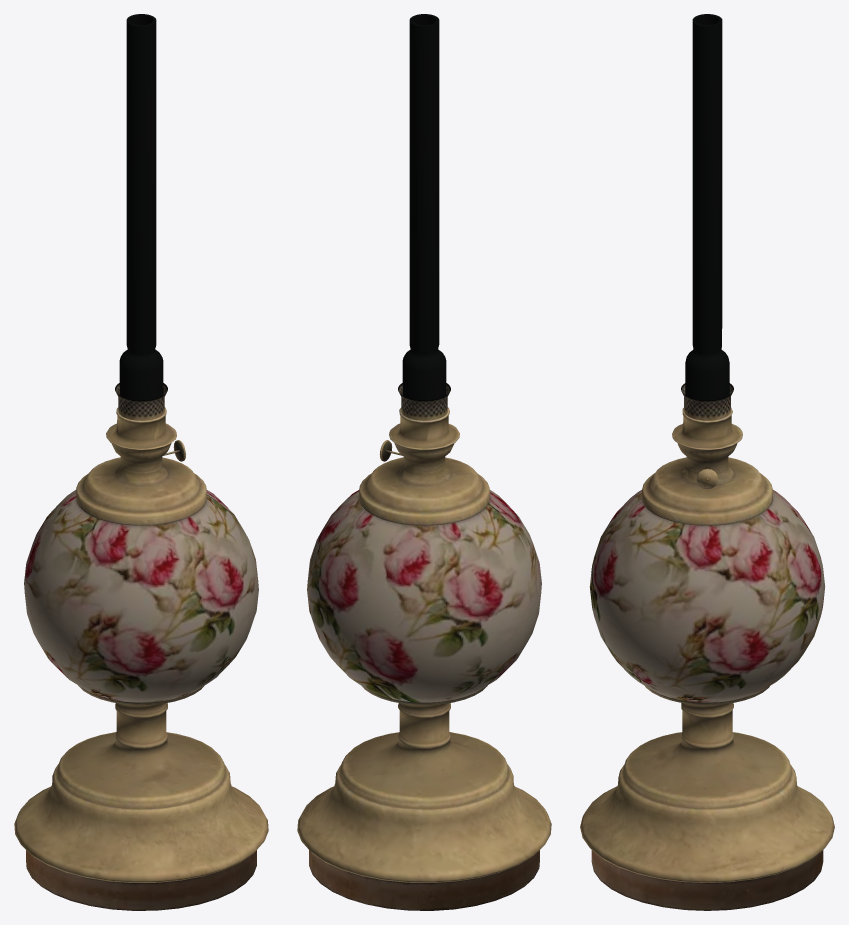
File: vintage_oil_lamp.glb
3 renders of one model, left to right at view 1: azimuth 30°, elevation 25°; view 2: azimuth 150°, elevation 25°; view 3: azimuth 270°, elevation 25°, orthographic.
Parts seen in each view (by area): view 1: vintage_oil_lamp, vintage_oil_lamp_glass; view 2: vintage_oil_lamp, vintage_oil_lamp_glass; view 3: vintage_oil_lamp, vintage_oil_lamp_glass.
Boxes of the visible parts, x1,y1,x2,y2 form: vintage_oil_lamp: [14, 407, 268, 910]; vintage_oil_lamp_glass: [115, 14, 167, 420]; vintage_oil_lamp: [297, 407, 551, 910]; vintage_oil_lamp_glass: [398, 14, 450, 420]; vintage_oil_lamp: [580, 407, 834, 910]; vintage_oil_lamp_glass: [681, 14, 733, 420].
Bounding box in the file's own units: 0.22 × 0.8016 × 0.22.
Materials: 3 (3 with a texture image).
